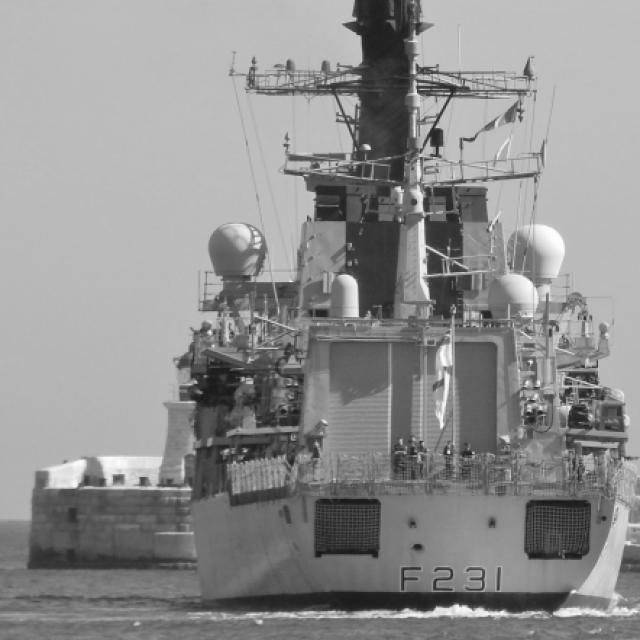Fragata: (182, 1, 629, 609)
